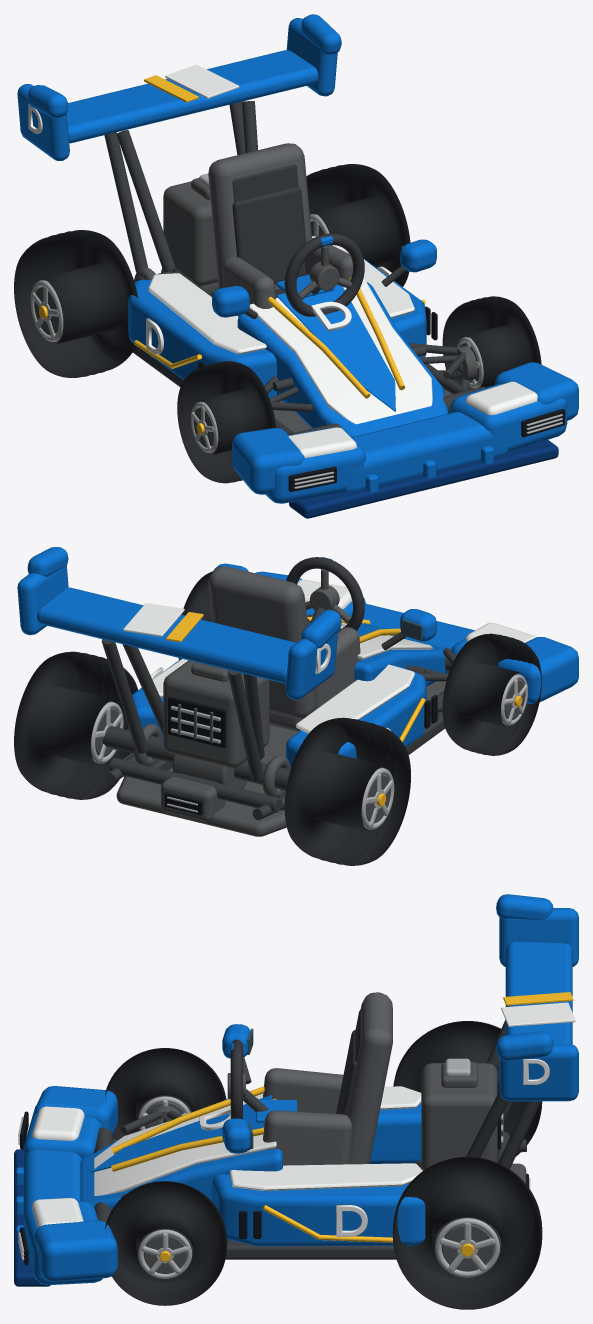
Rendered from BlueKart.glb.
3 renders of one model, top to bottom at view 1: azimuth 30°, elevation 25°; view 2: azimuth 150°, elevation 25°; view 3: azimuth 270°, elevation 25°, orthographic. The views are drawn at different scales.
Parts seen in each view (by area): view 1: Tire_RL, Rear_Wing_Main, Body_Nose_WhiteTop, Tire_RR, Tire_FL, Front_Bumper_Center, Tire_FR, Seat_Back_Inset, Body_Sidepod_L, Body_Nose_BlueBase, Seat_Back_Outer, Front_Splitter (+30 smaller); view 2: Tire_RL, Tire_RR, Rear_Wing_Main, Tire_FL, Seat_Back_Outer, Engine_Main_Casing, Chassis_Undertray_Armored, Body_Sidepod_WhiteTop_L, Front_Bumper_OuterCap_L, Body_Sidepod_L, Rear_Wing_Endplate_L, Rear_Crossmember (+35 smaller); view 3: Tire_RR, Body_Sidepod_R, Tire_FR, Engine_Main_Casing, Tire_FL, Seat_Back_Outer, Rear_Wing_Main, Tire_RL, Front_Bumper_OuterCap_R, Body_Sidepod_WhiteTop_R, Seat_SideBolster_R, Body_Nose_WhiteTop (+35 smaller).
Part boxes in pixels (x1,y1,x2,y2): Tire_RL: [14, 230, 138, 377]; Rear_Wing_Main: [66, 50, 318, 143]; Body_Nose_WhiteTop: [249, 278, 432, 424]; Tire_RR: [306, 164, 410, 286]; Tire_FL: [177, 361, 275, 483]; Front_Bumper_Center: [343, 411, 507, 492]; Tire_FR: [442, 296, 541, 389]; Seat_Back_Inset: [232, 186, 305, 283]; Body_Sidepod_L: [128, 279, 276, 398]; Body_Nose_BlueBase: [237, 282, 448, 437]; Seat_Back_Outer: [208, 143, 311, 289]; Front_Splitter: [289, 439, 558, 518]; Tire_RL: [284, 717, 410, 865]; Tire_RR: [14, 651, 138, 799]; Rear_Wing_Main: [37, 587, 296, 683]; Tire_FL: [442, 633, 541, 755]; Seat_Back_Outer: [208, 566, 314, 718]; Engine_Main_Casing: [163, 660, 269, 767]; Chassis_Undertray_Armored: [116, 681, 446, 836]; Body_Sidepod_WhiteTop_L: [296, 664, 414, 733]; Front_Bumper_OuterCap_L: [497, 637, 578, 703]; Body_Sidepod_L: [286, 664, 426, 767]; Rear_Wing_Endplate_L: [285, 632, 337, 699]; Rear_Crossmember: [109, 757, 281, 812]; Tire_RR: [392, 1156, 542, 1309]; Body_Sidepod_R: [212, 1174, 425, 1246]; Tire_FR: [105, 1181, 227, 1305]; Engine_Main_Casing: [421, 1063, 497, 1170]; Tire_FL: [105, 1048, 226, 1139]; Seat_Back_Outer: [347, 992, 392, 1164]; Rear_Wing_Main: [505, 941, 572, 1044]; Tire_RL: [393, 1021, 542, 1156]; Front_Bumper_OuterCap_R: [34, 1220, 117, 1282]; Body_Sidepod_WhiteTop_R: [229, 1163, 422, 1190]; Seat_SideBolster_R: [263, 1110, 352, 1165]; Body_Nose_WhiteTop: [94, 1093, 276, 1195].
Bounding box in the file's own units: 2.55 × 1.86 × 3.55.
